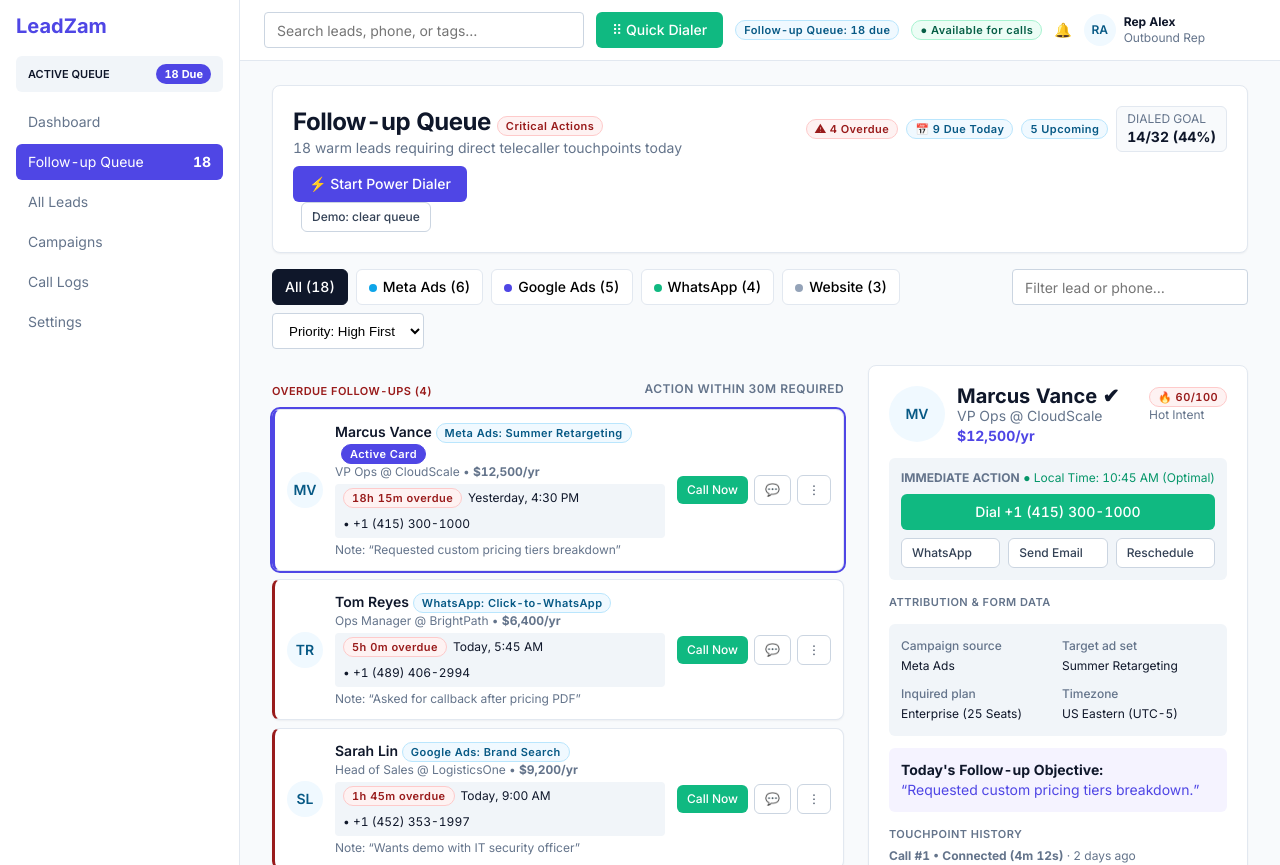
Follow-up Queue › reaches the all-clear state
Expected: the text "Overdue follow-ups (4)" is shown, left=272, top=381, right=432, bottom=401
Click the button "Demo: clear queue" at (366, 217), box left=301, top=202, right=431, bottom=232
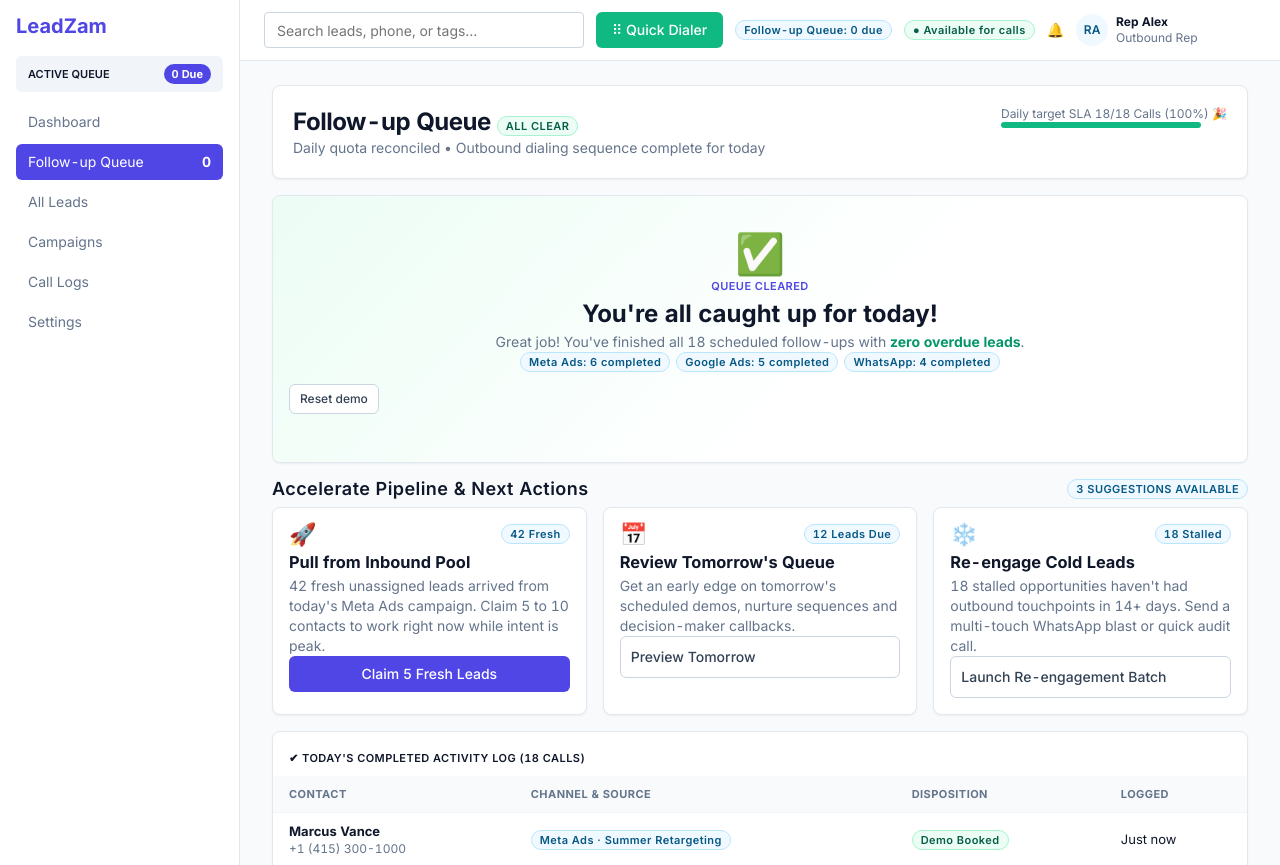
Expected: the heading "You're all caught up for today!" is shown, left=582, top=299, right=938, bottom=328
